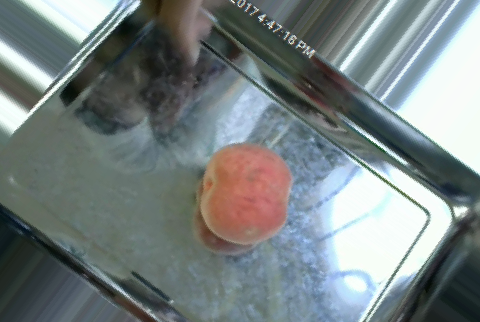Peach: (197, 142, 291, 246)
